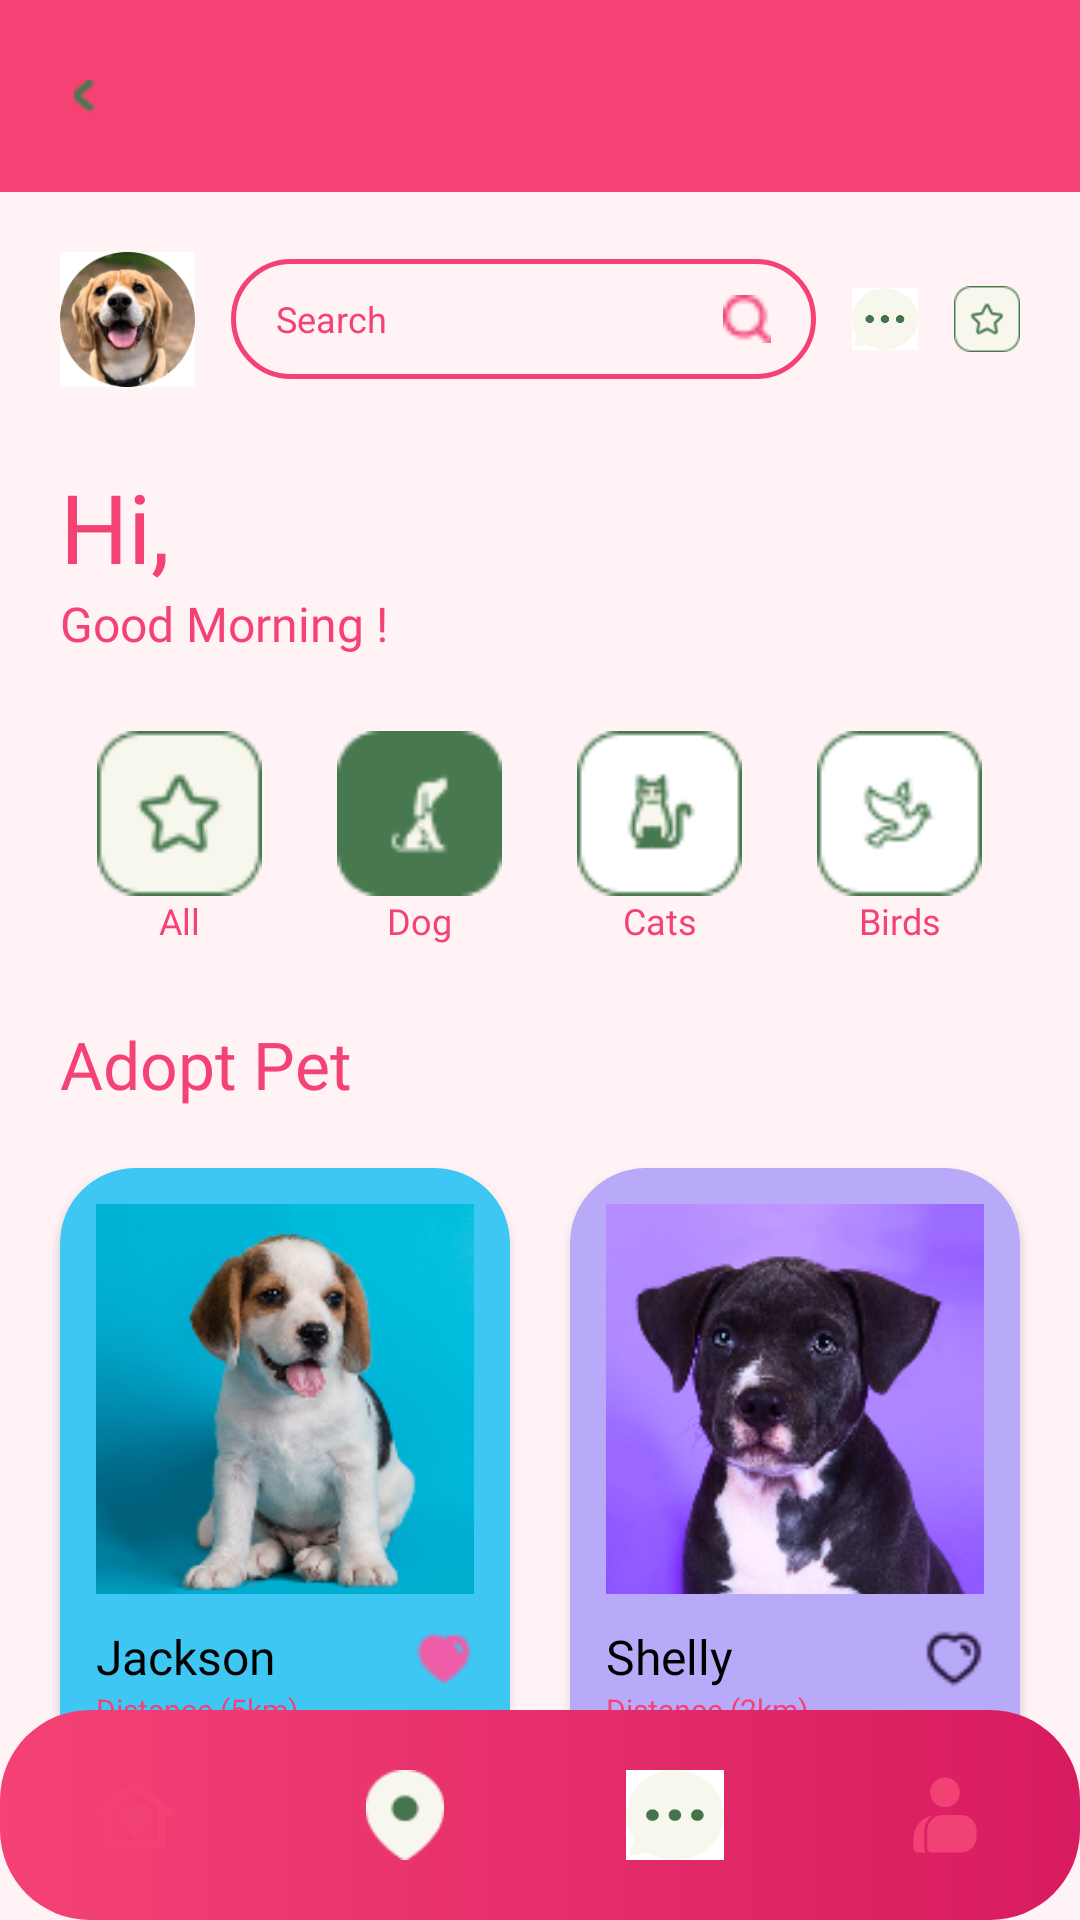

Icon click points for this 1080x1920 phone screenshot, format point (x, y):
heart: point (954, 1658), point (444, 1658)
map: point (405, 1815)
profil user: point (127, 319)
profile: point (945, 1815)
